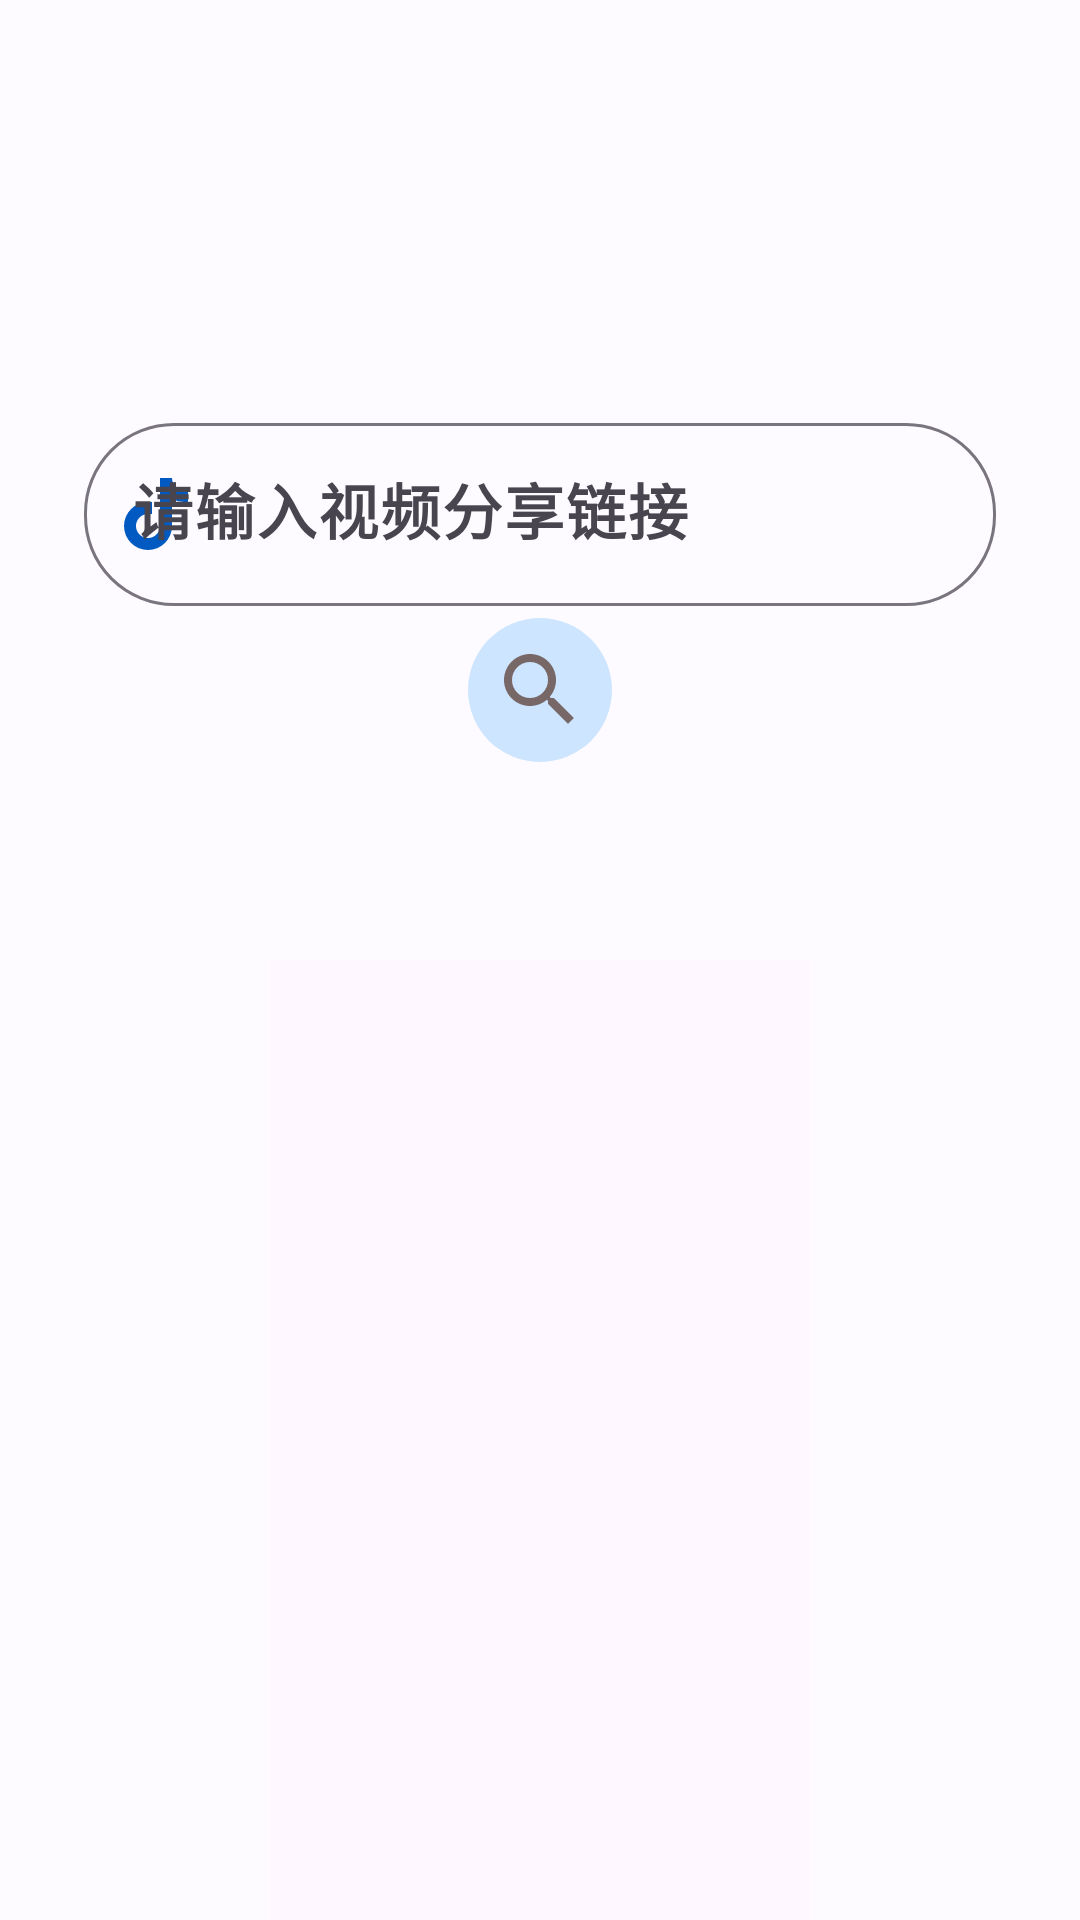

Locate icon controls on the screen. Image size 1080px x 1920px, boxes as {"left": x1, "top": y1, "right": x2, "bottom": y2}.
search: {"left": 504, "top": 654, "right": 574, "bottom": 724}
